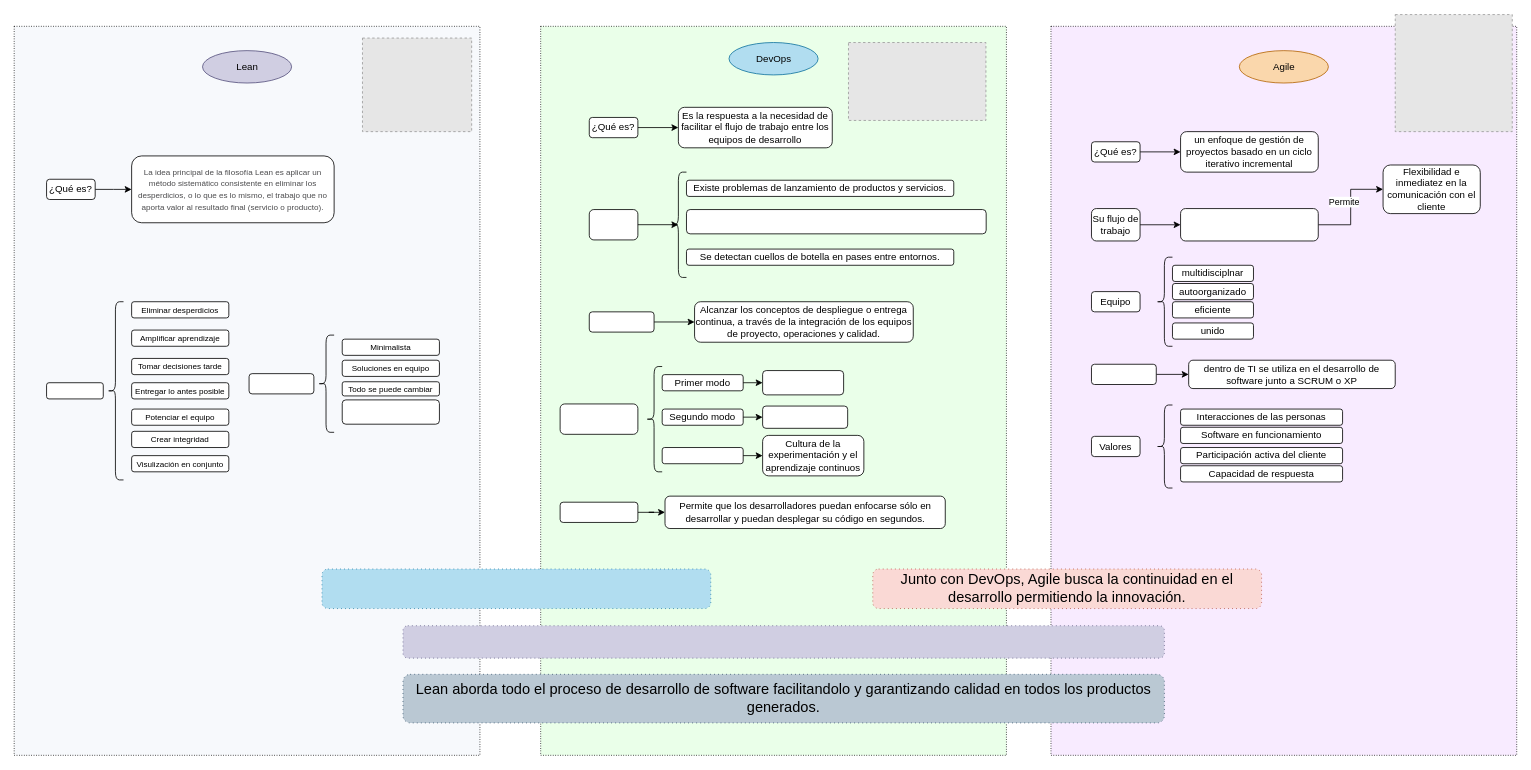
The diagram is 1531 pixels wide and 770 high, and some of its shapes have lost their labels. Grey dashed boxes stand in for pictures. Each missing label, with the box of its shape:
Aplicaciones: (1091, 363, 1156, 385)
Aumentar los ciclos de feedback: (762, 405, 848, 428)
Caracteristicas: (248, 373, 314, 394)
Entrega temprana del producto definitivo: (402, 625, 1164, 658)
La necesidad determina la tecnología: (341, 399, 439, 424)
Los productos o servicios requiere una evolución continua en ciclos muy cortos: (686, 209, 986, 234)
Modos como principios: (559, 403, 638, 434)
Pensamiento sistémico: (762, 370, 844, 395)
Principios: (46, 382, 103, 399)
se adapta de acuerdo a las condiciones del proyecto: (1180, 208, 1318, 241)
Se enfocan a reducir las técnicas de control erróneas en sistemas complejos: (321, 568, 711, 609)
Tercer modo: (661, 447, 743, 464)
¿Cuando se utiliza ?: (588, 209, 638, 240)
¿Qué busca?: (588, 311, 654, 332)
¿Qué permite?: (559, 501, 638, 522)
